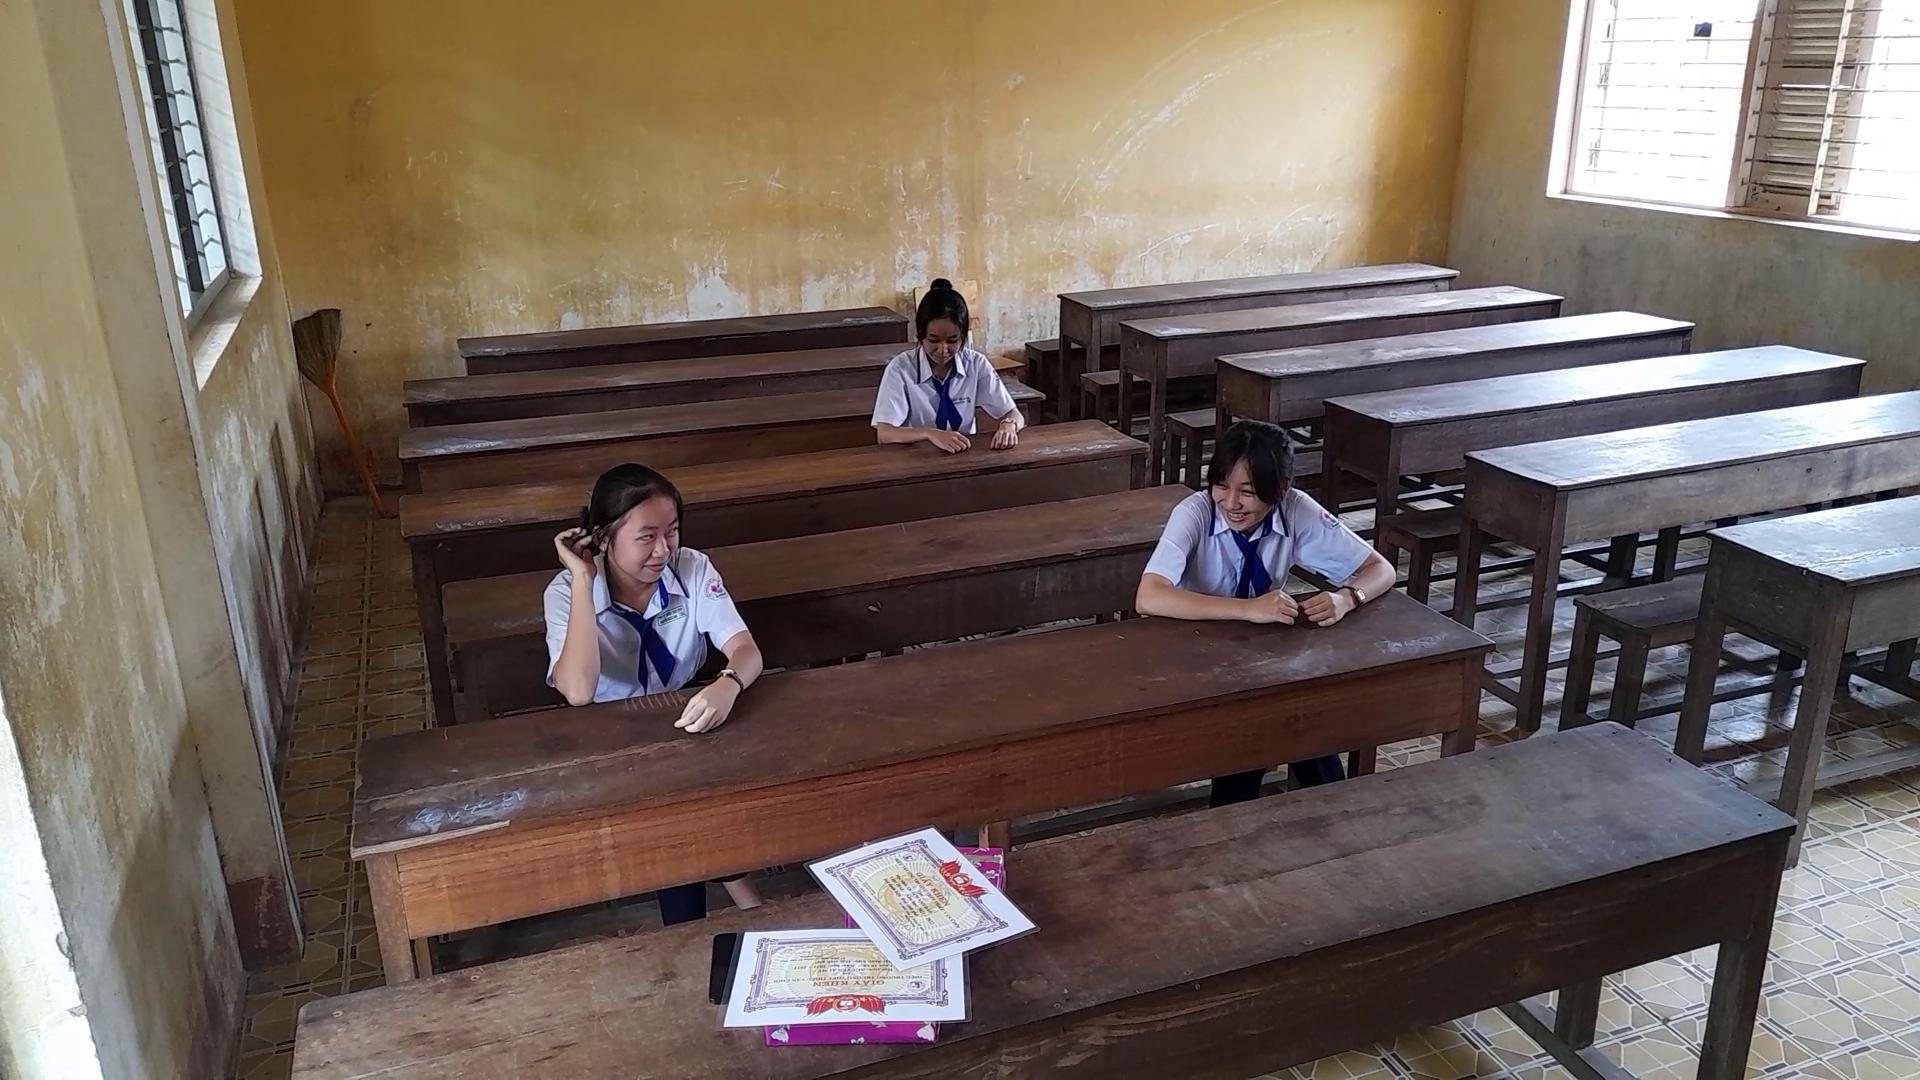Bend Over The Desk: (887, 266, 986, 375)
Look Around: (576, 454, 698, 588), (1189, 410, 1311, 545)
Wave: (542, 513, 609, 708)
